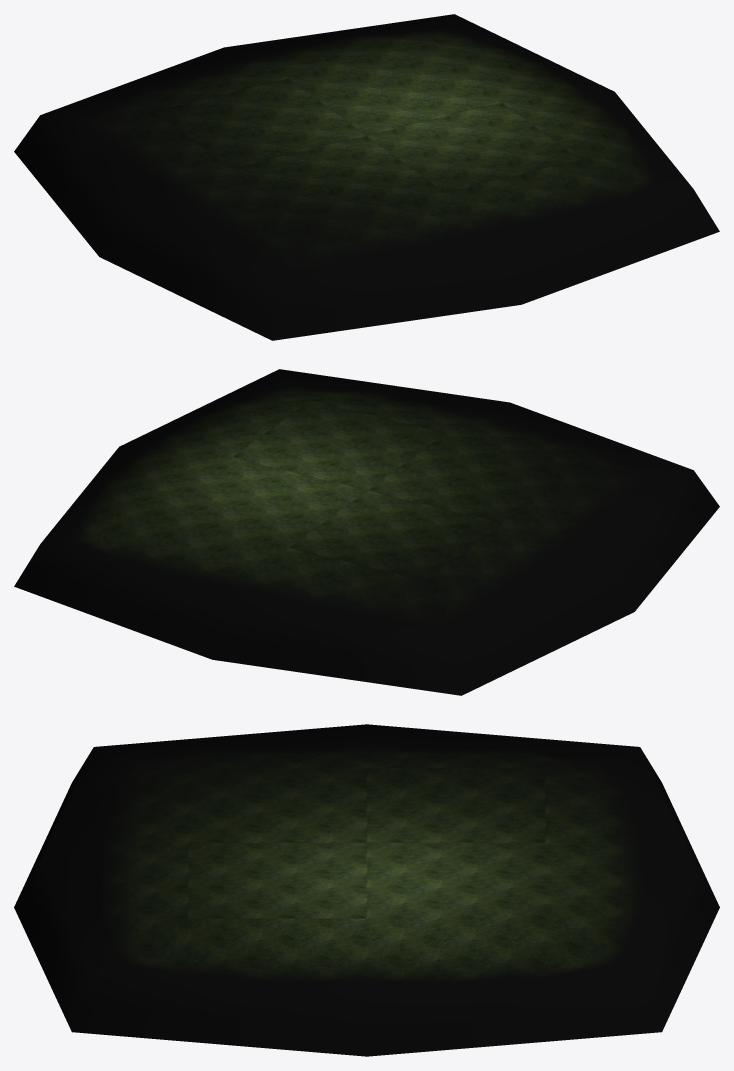
Rendered from terrain.obj.
The picture shows the model from 3 angles, top to bottom: view 1: azimuth 30°, elevation 25°; view 2: azimuth 150°, elevation 25°; view 3: azimuth 270°, elevation 25°; orthographic projection. The views are drawn at different scales.
Parts seen in each view (by area): view 1: Terrain_export_Plane.001; view 2: Terrain_export_Plane.001; view 3: Terrain_export_Plane.001.
Boxes of the visible parts, box(x1,y1,x2,y2) form: Terrain_export_Plane.001: box(14, 14, 719, 340); Terrain_export_Plane.001: box(14, 369, 719, 695); Terrain_export_Plane.001: box(14, 724, 719, 1056).
Size of the model in its own units: 31.45 by 3.15 by 31.45.
1 material, 1 textured.
